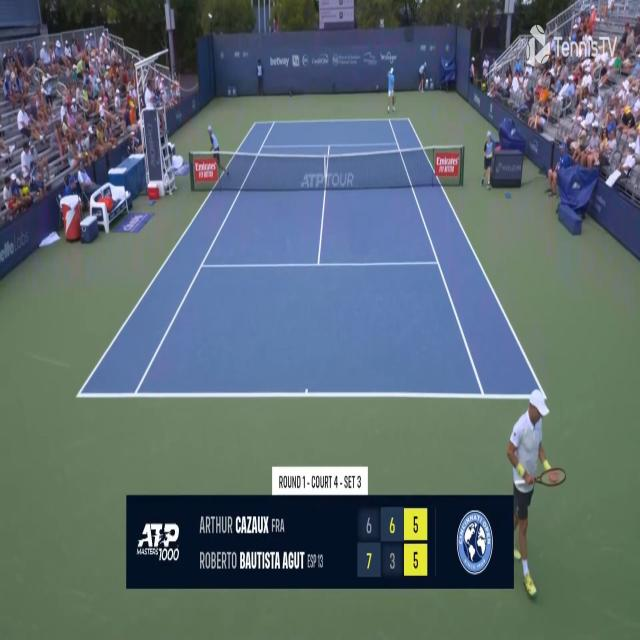tennis-player: (503, 386, 568, 606), (386, 63, 398, 112)
